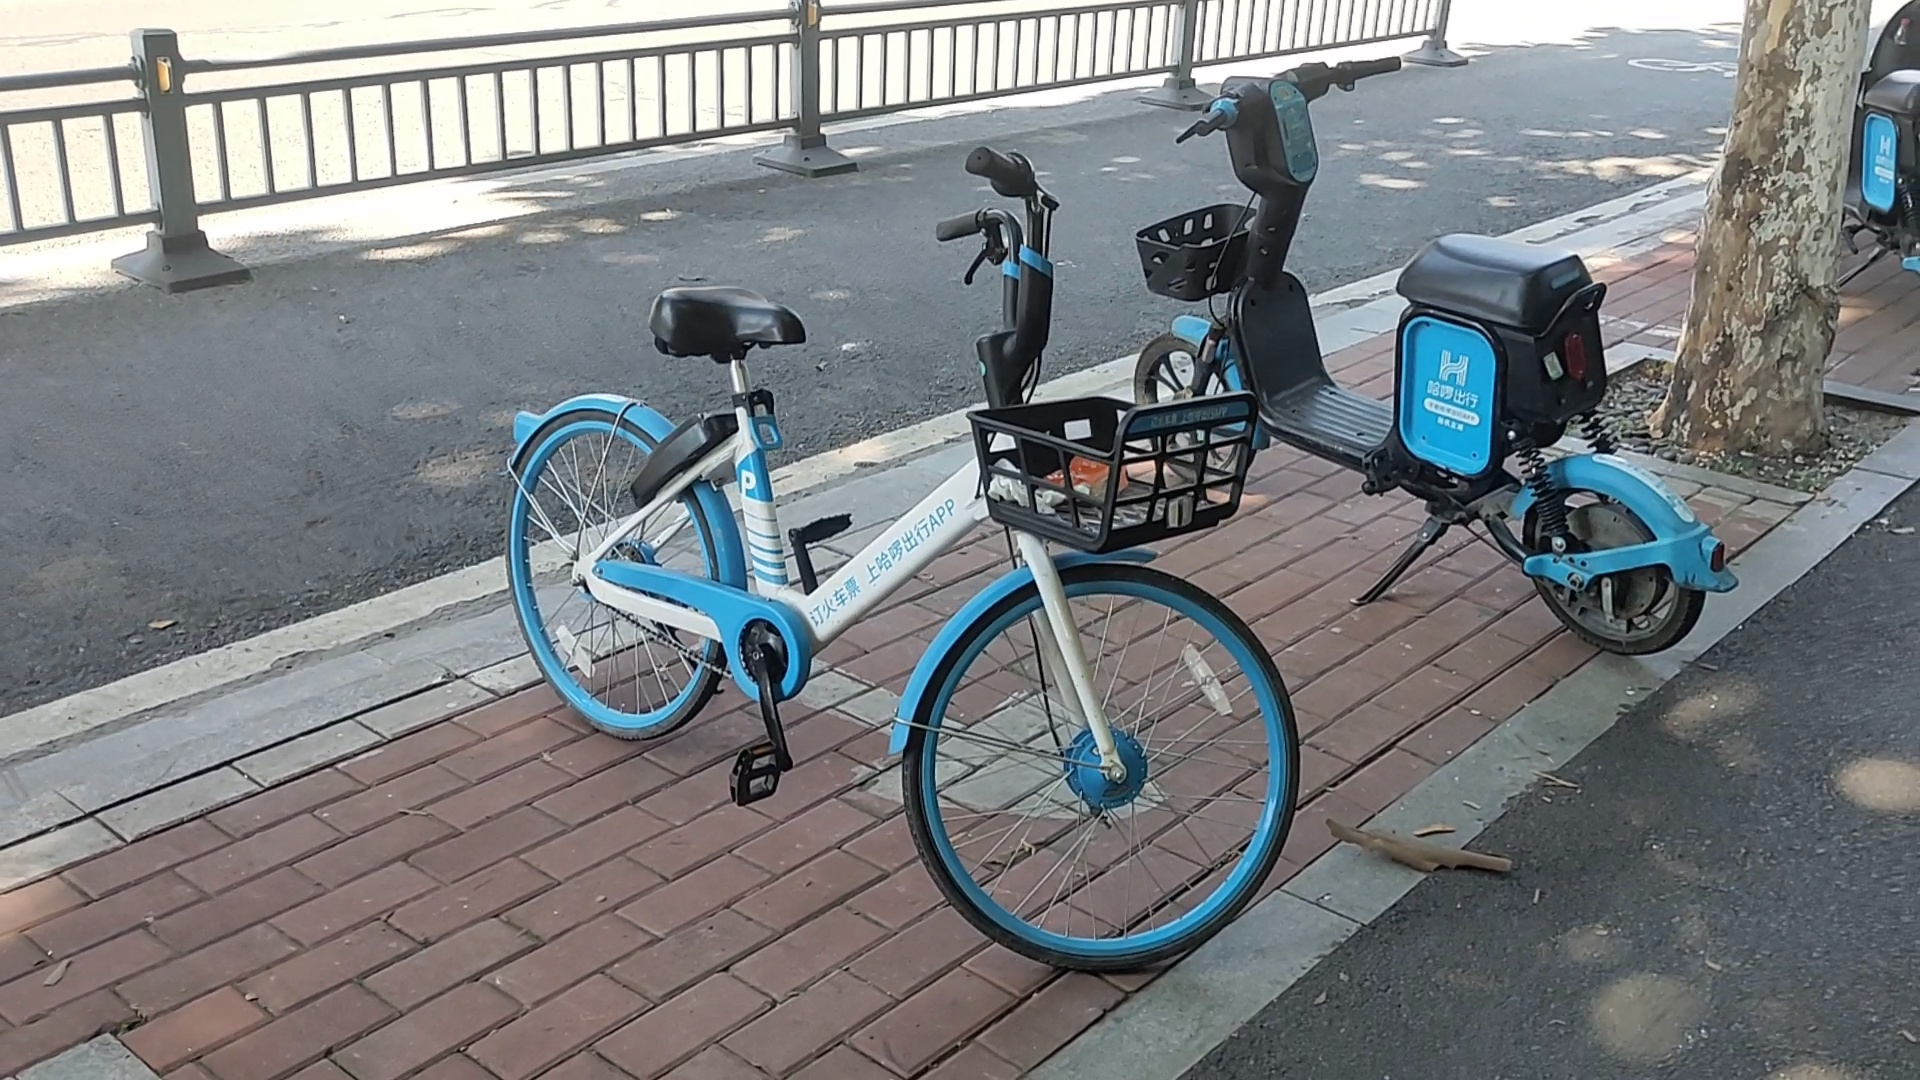non-vehicle: (498, 124, 1299, 981), (1142, 45, 1741, 657)
